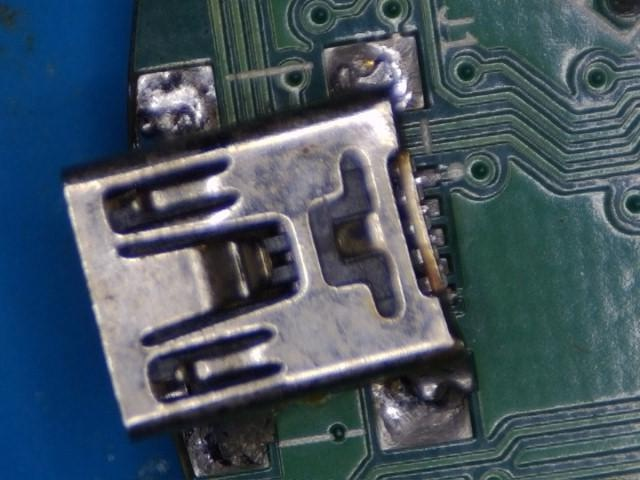pcb_defect: (59, 32, 478, 479)
